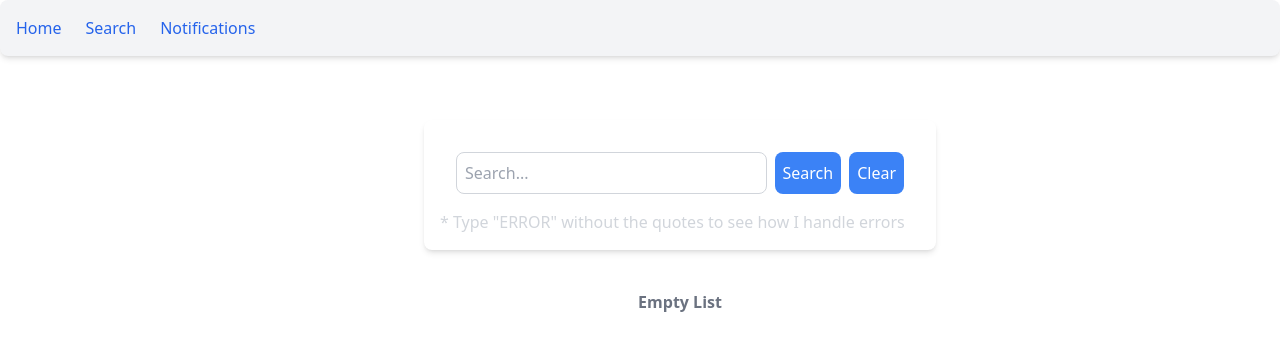
it: Component rendering states › Search error
Type "ERROR" into the field with test id "search-input" at (611, 173), box left=456, top=152, right=766, bottom=194
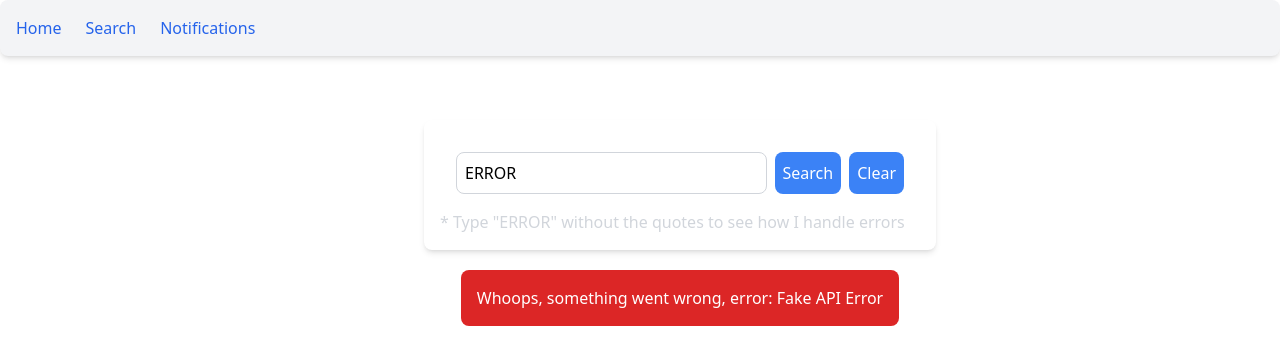
Expected: the text "Whoops, something went wrong, error: Fake API Error" is shown, left=461, top=270, right=899, bottom=326
